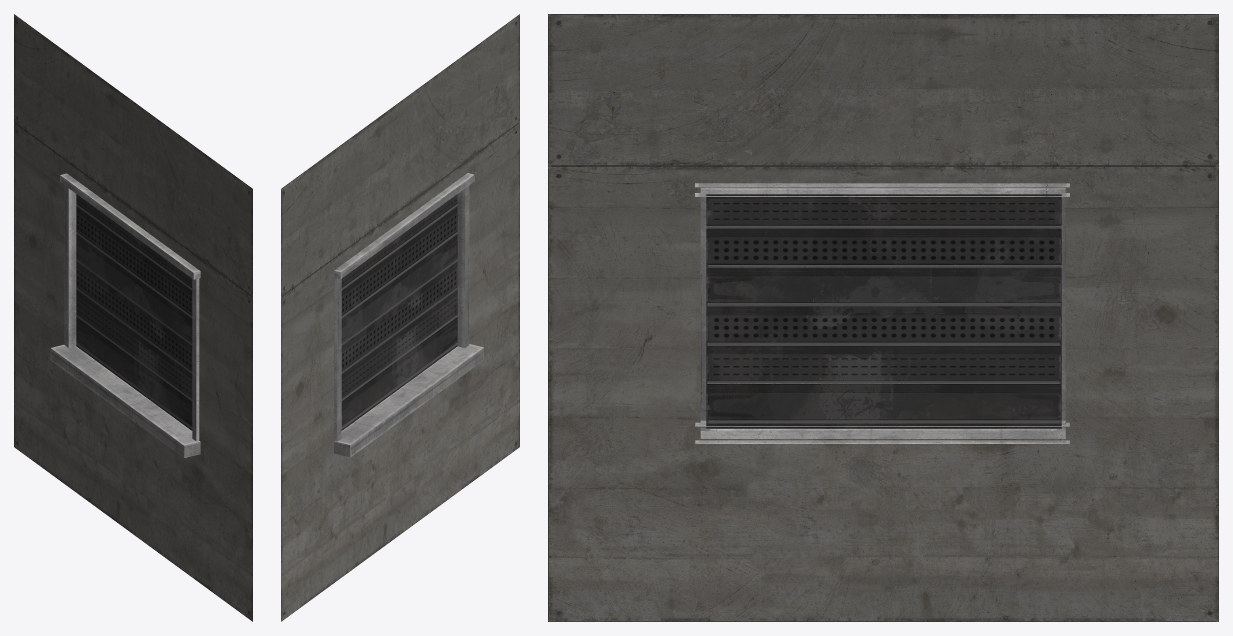
Rendered from CP_Windows_4x4m_02.fbx.
3 views of the same model, side by side, from view 1: azimuth 30°, elevation 25°; view 2: azimuth 150°, elevation 25°; view 3: azimuth 270°, elevation 25° (orthographic). The views are drawn at different scales.
Parts seen in each view (by area): view 1: CP_Windows_4x4m_02; view 2: CP_Windows_4x4m_02; view 3: CP_Windows_4x4m_02.
Boxes of the visible parts, x1,y1,x2,y2 form: CP_Windows_4x4m_02: (14,14,252,621); CP_Windows_4x4m_02: (281,14,519,621); CP_Windows_4x4m_02: (548,14,1218,621).
Bounding box in the file's own units: 22.88 × 400 × 400.
